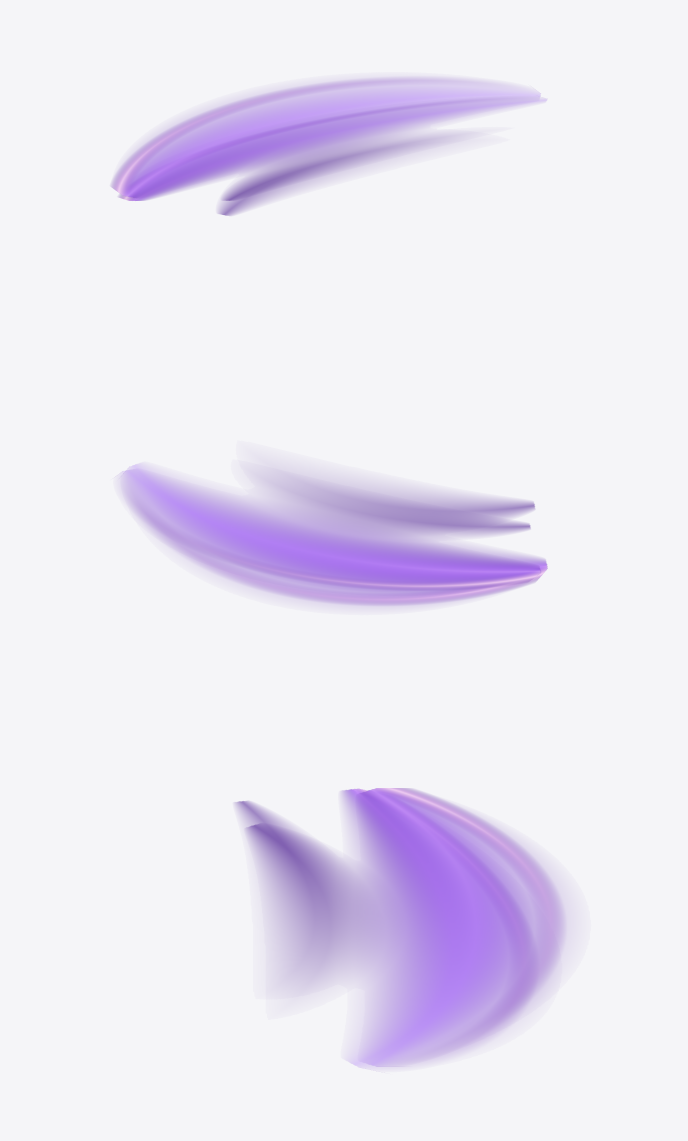
The model's file is fx_sw_reaper.glb.
3 renders of one model, top to bottom at view 1: azimuth 30°, elevation 25°; view 2: azimuth 150°, elevation 25°; view 3: azimuth 270°, elevation 25°, orthographic. The views are drawn at different scales.
Visible parts, largest first — view 1: fx_sw; view 2: fx_sw; view 3: fx_sw.
Boxes of the visible parts, x1,y1,x2,y2 form: fx_sw: (111, 77, 546, 215); fx_sw: (117, 464, 547, 606); fx_sw: (235, 788, 566, 1069).
Size of the model in its own units: 1 by 0.22 by 1.
1 material, 1 textured.
